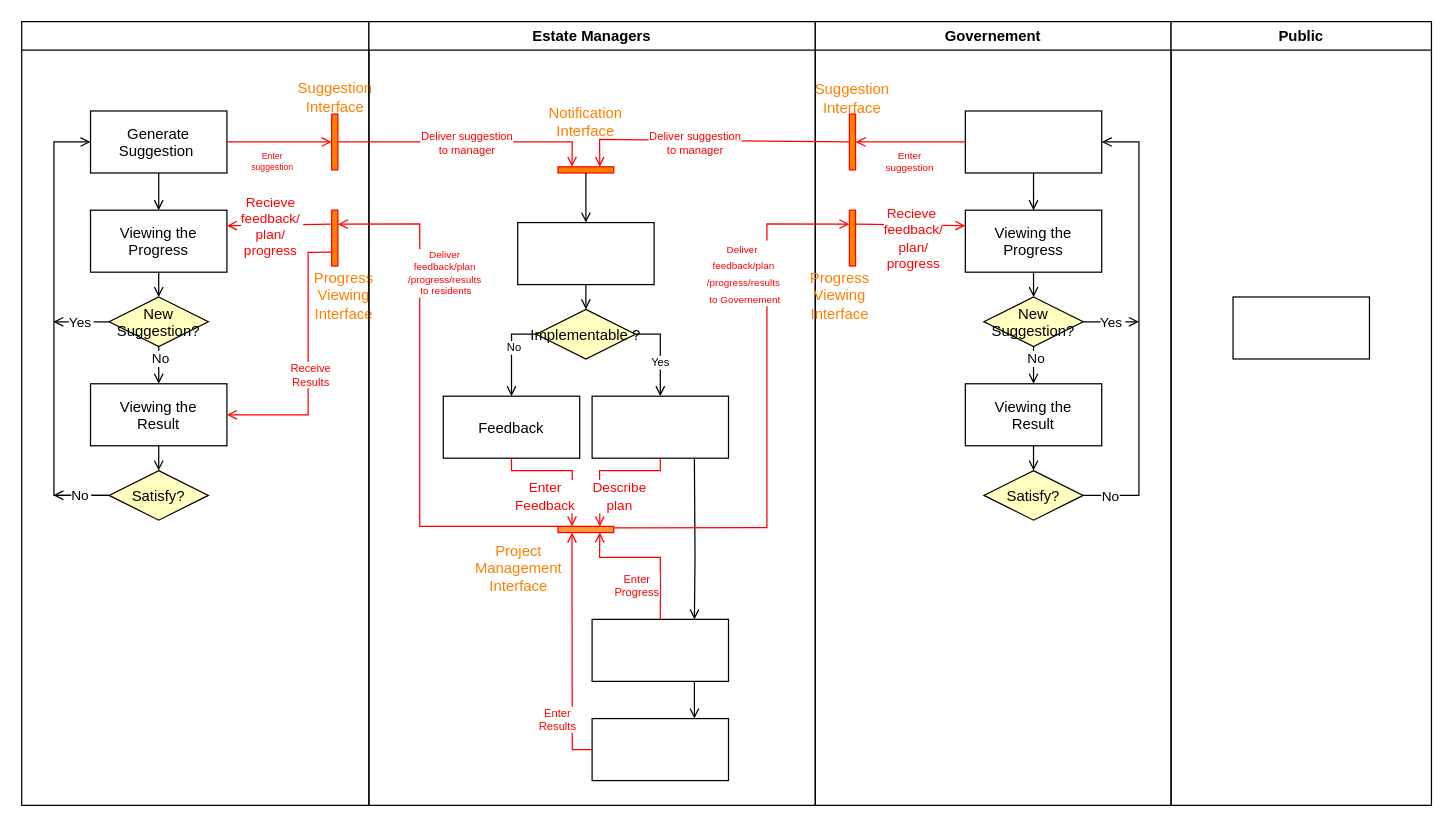
Image size: 1453x827. Some labels were removed from this diagram. Each missing label, with the box of its shape:
Conclude & Reflection: (591, 717, 728, 781)
Generate a Plan: (591, 395, 728, 458)
Government policy to be implemented: (964, 110, 1102, 173)
Implementing Plan: (591, 618, 728, 681)
process command: (1232, 296, 1369, 359)
Receive Suggestion: (516, 221, 654, 285)
Residents: (20, 20, 369, 805)
